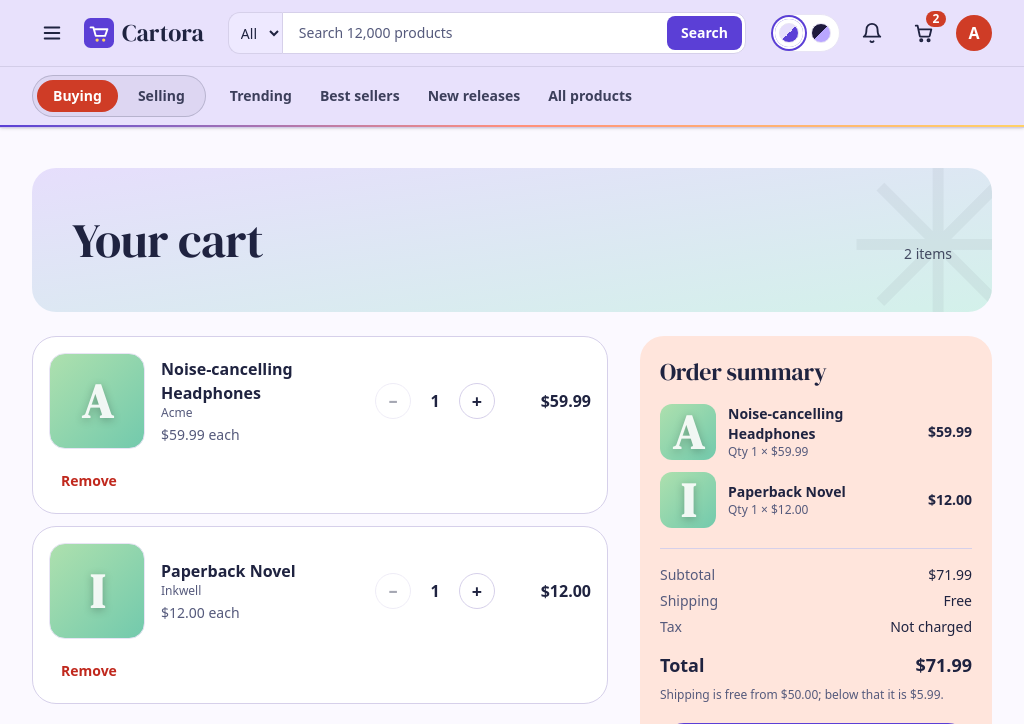
Test: cart needs an account › changes quantity and removes lines, with totals from the server
The width and height of the screenshot is (1024, 724).
Expected: the text "Free" is shown, [943, 591, 972, 611]
Click the button with aria-label "Remove Noise-cancelling Headphones".
click(89, 481)  # box [49, 465, 129, 497]
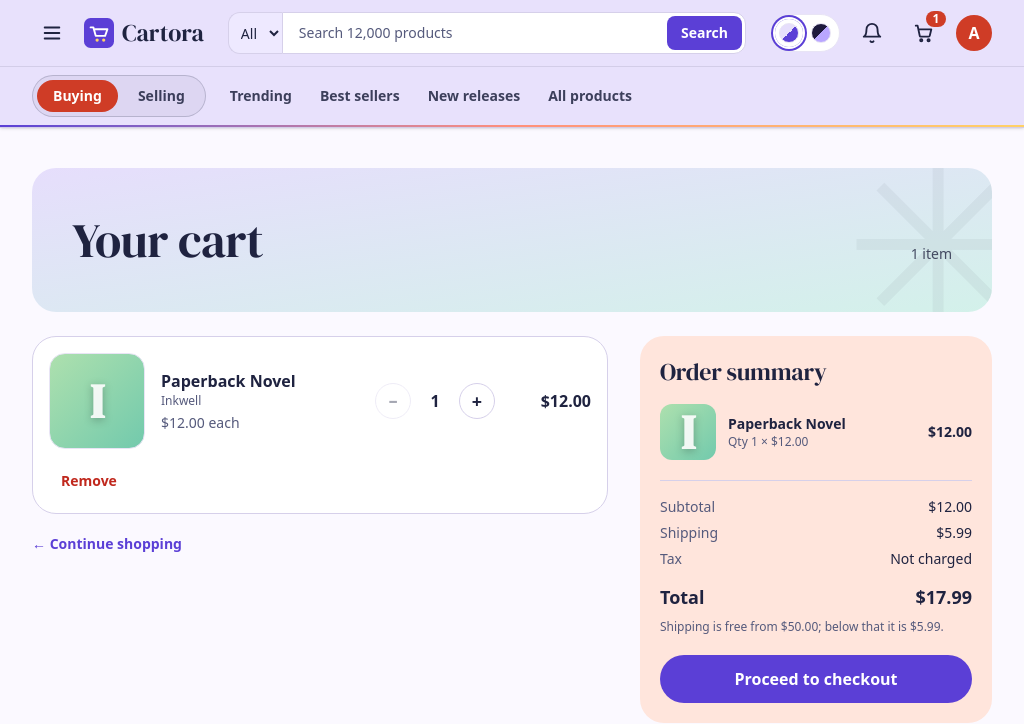
Expected: the text "$5.99" is shown, [936, 523, 972, 543]
